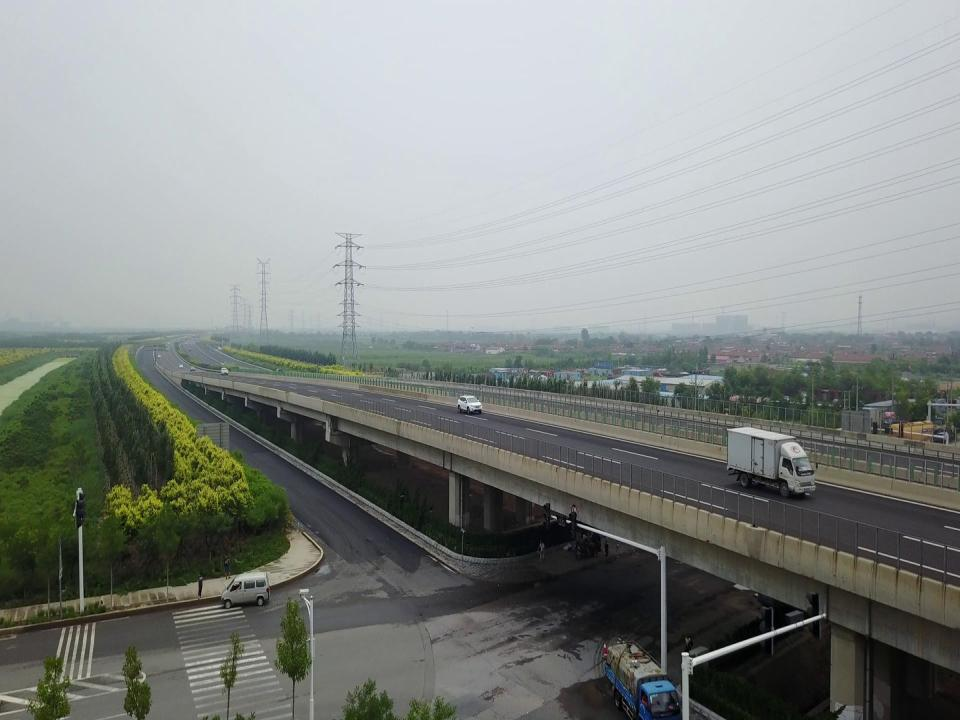car: (453, 394, 483, 415), (218, 367, 232, 376), (189, 363, 197, 374), (176, 361, 184, 370)
truck: (720, 425, 818, 497), (603, 638, 681, 720)
van: (219, 572, 271, 608)
